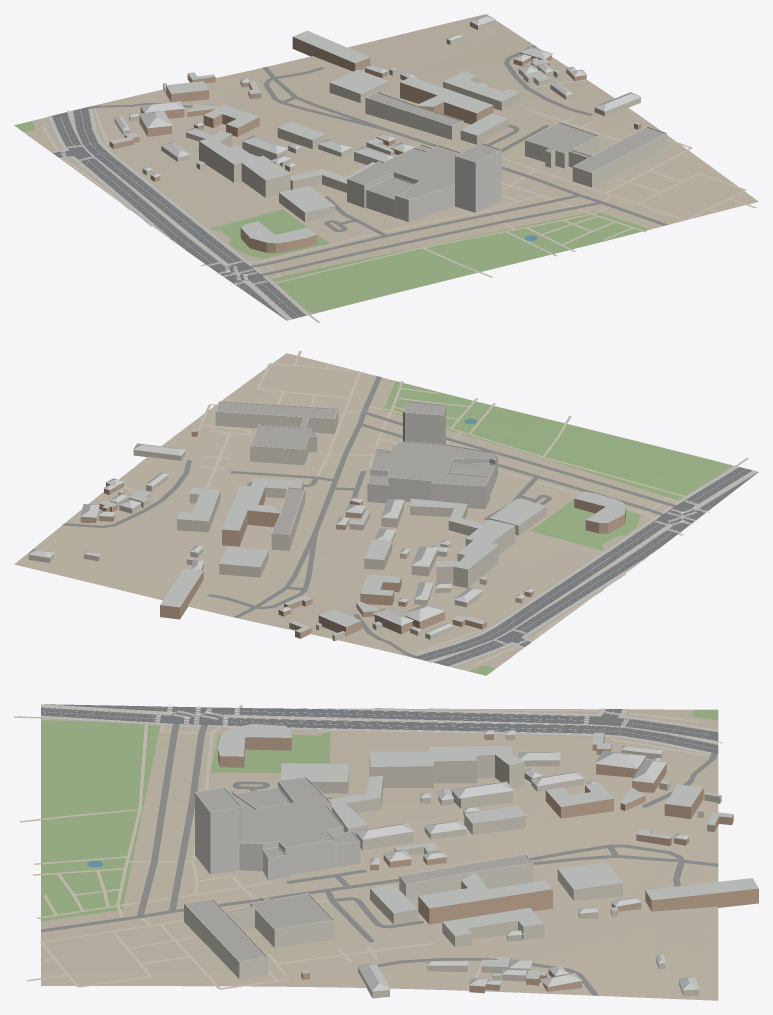
File: bolak_-3_-1.glb
3 renders of one model, top to bottom at view 1: azimuth 30°, elevation 25°; view 2: azimuth 150°, elevation 25°; view 3: azimuth 270°, elevation 25°, orthographic. The views are drawn at different scales.
Visible parts, largest first — view 1: Yer_Tuproq-col, Tom_Shifer, Yer_Maysa, Devor_Suvoq-col, Yol_Asfalt-col, Tom_Tekis, Yol_Mahalla-col, Devor_Gisht-col, Devor_Panel-col, Devor_Jamoat-col, Yol_Piyoda, Trotuar (+2 smaller); view 2: Yer_Tuproq-col, Tom_Shifer, Yer_Maysa, Yol_Asfalt-col, Tom_Tekis, Devor_Suvoq-col, Yol_Mahalla-col, Devor_Gisht-col, Devor_Panel-col, Yol_Piyoda, Devor_Jamoat-col, Trotuar (+2 smaller); view 3: Yer_Tuproq-col, Tom_Shifer, Yer_Maysa, Devor_Suvoq-col, Yol_Asfalt-col, Tom_Tekis, Devor_Gisht-col, Yol_Mahalla-col, Devor_Panel-col, Yol_Piyoda, Devor_Jamoat-col, Trotuar (+2 smaller).
Boxes of the visible parts, x1,y1,x2,y2 form: Yer_Tuproq-col: [23, 14, 758, 320]; Tom_Shifer: [110, 15, 641, 243]; Yer_Maysa: [14, 121, 648, 313]; Devor_Suvoq-col: [114, 20, 640, 222]; Yol_Asfalt-col: [52, 107, 305, 320]; Tom_Tekis: [348, 93, 664, 199]; Yol_Mahalla-col: [88, 45, 667, 275]; Devor_Gisht-col: [109, 37, 641, 253]; Devor_Panel-col: [347, 143, 501, 221]; Devor_Jamoat-col: [365, 91, 666, 187]; Yol_Piyoda: [41, 79, 756, 322]; Trotuar: [48, 106, 309, 320]; Yer_Tuproq-col: [14, 353, 757, 671]; Tom_Shifer: [28, 429, 625, 635]; Yer_Maysa: [383, 381, 731, 675]; Yol_Asfalt-col: [412, 467, 758, 666]; Tom_Tekis: [216, 402, 496, 534]; Devor_Suvoq-col: [28, 450, 546, 641]; Yol_Mahalla-col: [62, 376, 675, 657]; Devor_Gisht-col: [80, 430, 625, 638]; Devor_Panel-col: [367, 401, 497, 508]; Yol_Piyoda: [124, 351, 748, 664]; Devor_Jamoat-col: [215, 401, 338, 550]; Trotuar: [409, 466, 758, 666]; Yer_Tuproq-col: [41, 707, 718, 1000]; Tom_Shifer: [218, 724, 758, 991]; Yer_Maysa: [41, 709, 718, 921]; Devor_Suvoq-col: [311, 734, 721, 998]; Yol_Asfalt-col: [41, 704, 718, 753]; Tom_Tekis: [186, 778, 531, 961]; Devor_Gisht-col: [218, 733, 758, 993]; Yol_Mahalla-col: [41, 708, 718, 995]; Devor_Panel-col: [195, 777, 360, 879]; Yol_Piyoda: [14, 705, 710, 989]; Devor_Jamoat-col: [184, 854, 533, 978]; Trotuar: [41, 704, 718, 755].
Size of what is drawn, in the model's own units: 418 by 49.13 by 440.
